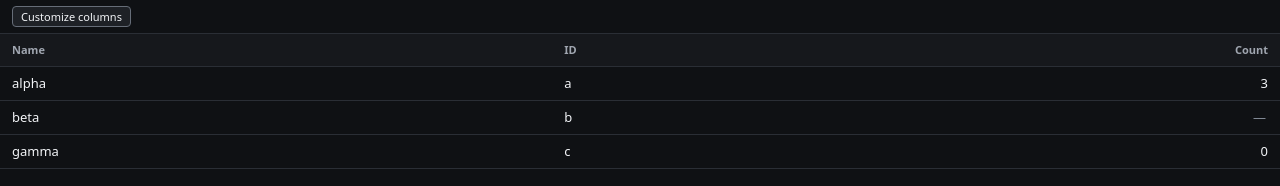
Test case: DataGrid › sorts through a native keyboard button and reports the direction
Click the button "ID".
click(570, 50)  # box [560,38,580,62]
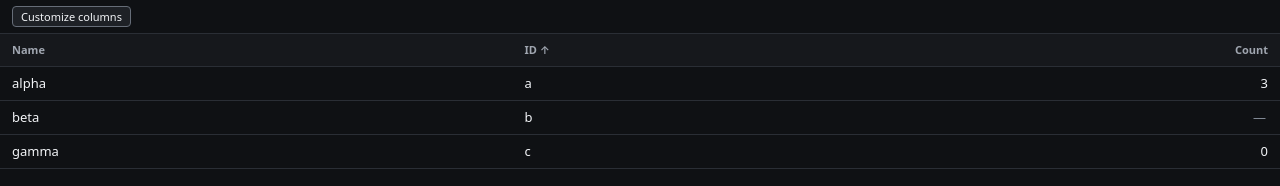
Expected: the row "alpha a 3" is shown, [0,66,1279,100]
Expected: the column heading "ID ↑" has attribute aria-sort="ascending", [512,34,868,66]
Click the button "ID ↑".
click(537, 50)  # box [520,38,554,62]
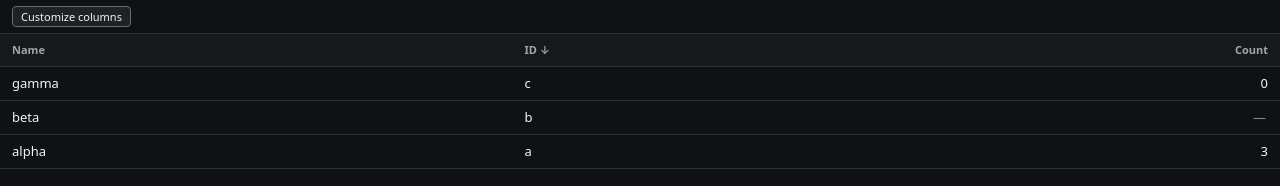
Expected: the row "gamma c 0" is shown, [0,66,1279,100]
Expected: the column heading "ID ↓" is shown, [512,34,868,66]
